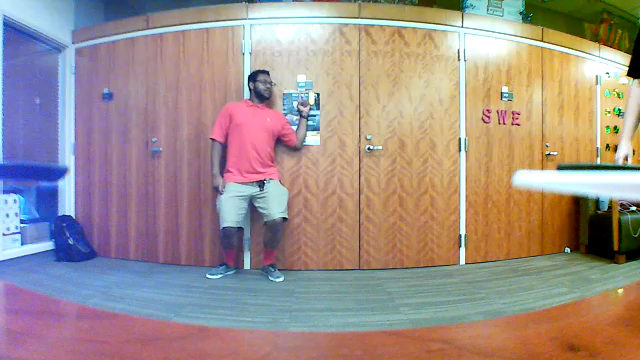up: (290, 89, 316, 123)
